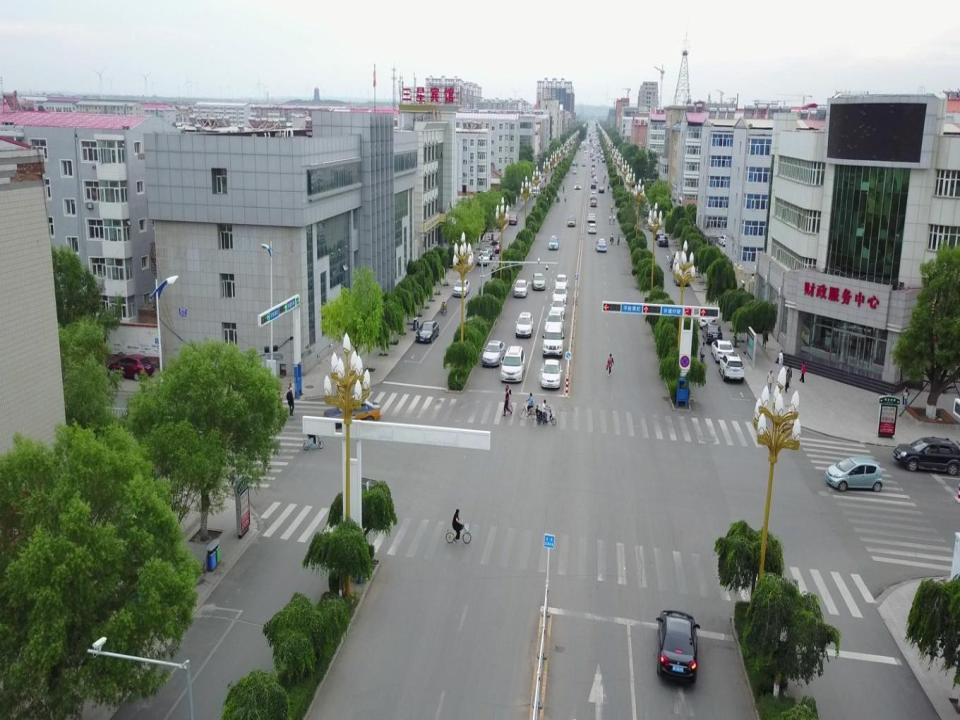car: (655, 610, 700, 680), (893, 437, 960, 476), (826, 456, 882, 492), (324, 399, 380, 430), (105, 354, 154, 384), (500, 346, 525, 382), (543, 324, 565, 356), (719, 353, 743, 382), (540, 359, 563, 388), (482, 340, 505, 368), (415, 321, 439, 343), (544, 310, 564, 336), (711, 338, 733, 361), (515, 311, 533, 338), (702, 322, 723, 344), (453, 278, 470, 298), (550, 297, 566, 318), (695, 312, 715, 328), (552, 284, 568, 304), (673, 267, 688, 288), (530, 272, 546, 290), (514, 278, 528, 298), (555, 274, 568, 291), (477, 248, 490, 264), (483, 245, 495, 258), (656, 235, 668, 247), (490, 240, 501, 253), (595, 238, 606, 251), (719, 234, 729, 248), (549, 236, 559, 250), (648, 220, 659, 231), (508, 214, 518, 225), (567, 215, 576, 227), (654, 229, 663, 239), (587, 213, 596, 222), (588, 223, 596, 233), (590, 191, 598, 199), (598, 184, 605, 192), (574, 181, 581, 188), (590, 199, 597, 206), (591, 182, 596, 188)
